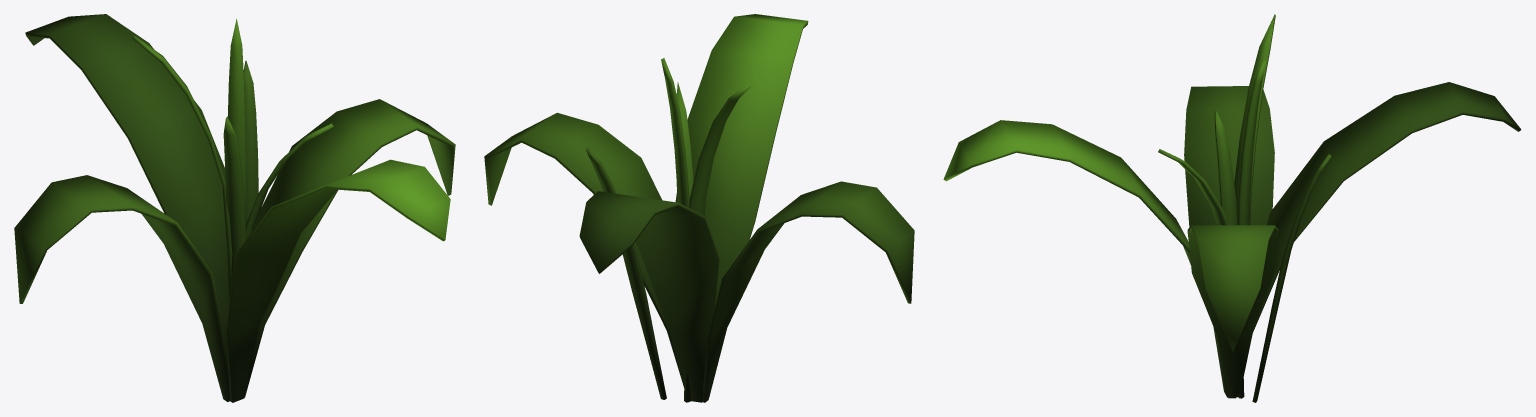
Rendered from grass_1.glb.
The picture shows the model from 3 angles, left to right: view 1: azimuth 30°, elevation 25°; view 2: azimuth 150°, elevation 25°; view 3: azimuth 270°, elevation 25°; orthographic projection. The views are drawn at different scales.
Visible parts, largest first — view 1: grass_1; view 2: grass_1; view 3: grass_1.
Part boxes in pixels (left/top/right/bottom): grass_1: left=14, top=14, right=455, bottom=402; grass_1: left=484, top=14, right=914, bottom=402; grass_1: left=943, top=14, right=1521, bottom=402.
Size of the model in its own units: 1.65 by 1.32 by 2.
Materials: 1 (1 with a texture image).
